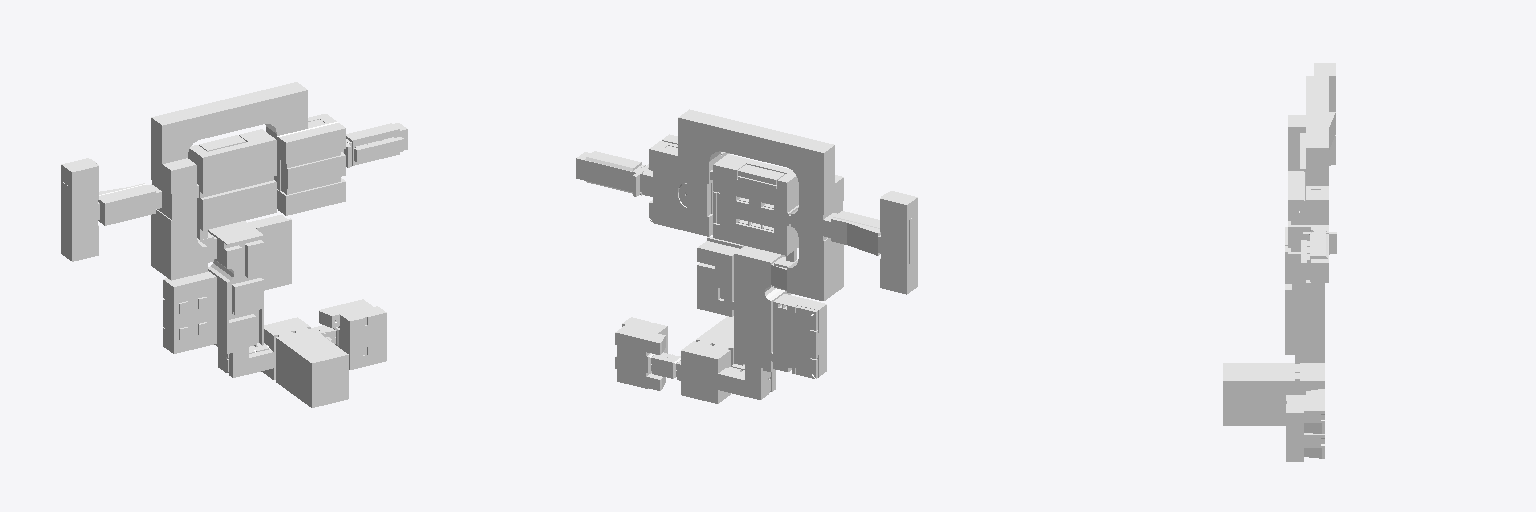
The model's file is map3.obj.
The picture shows the model from 3 angles: view 1: azimuth 30°, elevation 25°; view 2: azimuth 150°, elevation 25°; view 3: azimuth 270°, elevation 25°; orthographic projection.
Visible parts, largest first — view 1: BSP_Object.model_0; view 2: BSP_Object.model_0; view 3: BSP_Object.model_0.
Boxes of the visible parts, box(x1,y1,x2,y2) form: BSP_Object.model_0: box(61, 82, 407, 407); BSP_Object.model_0: box(576, 109, 917, 403); BSP_Object.model_0: box(1223, 63, 1336, 461).
Size of the model in its own units: 2756 by 2208 by 808.